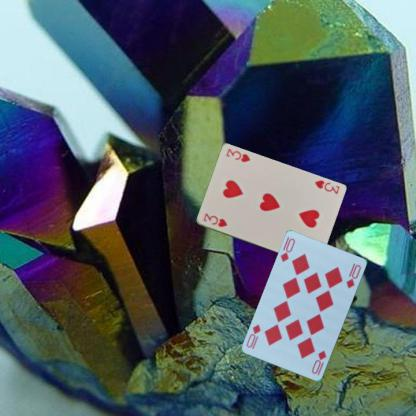10d: (309, 348, 328, 377), (278, 236, 296, 263)
3h: (312, 178, 341, 196), (201, 210, 228, 228)
